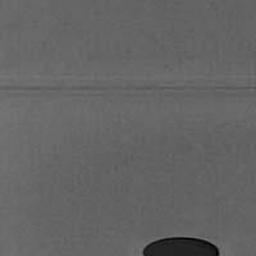Punching: (142, 237, 220, 256)
